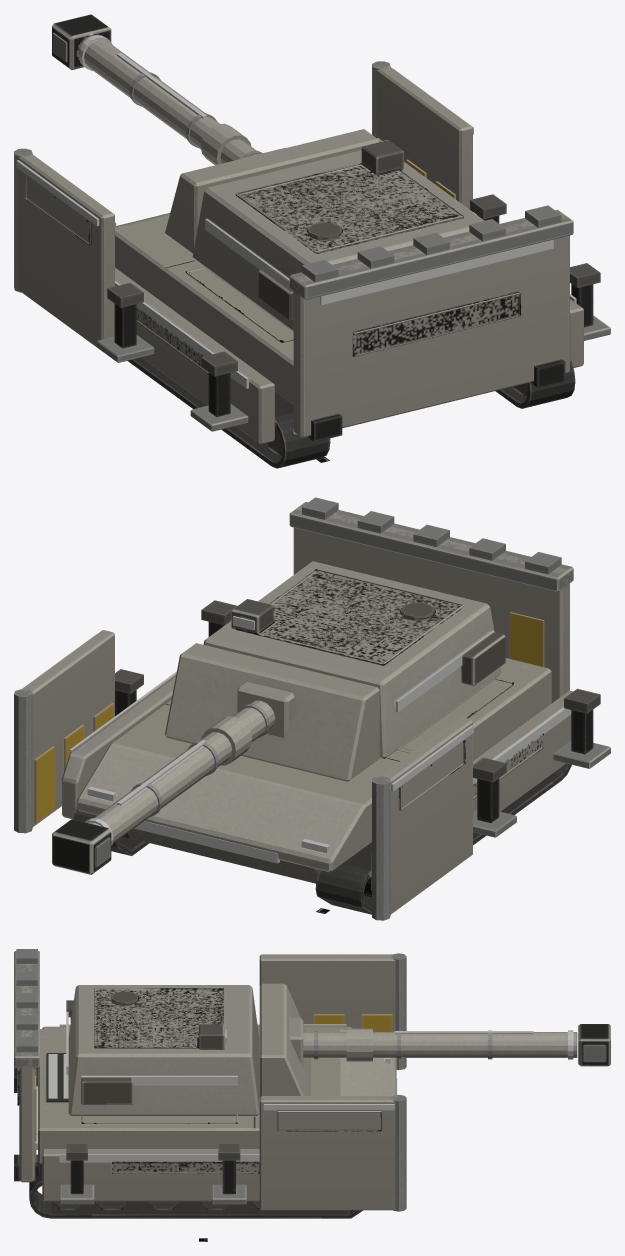
File: ord_warden.fbx
3 renders of one model, top to bottom at view 1: azimuth 30°, elevation 25°; view 2: azimuth 150°, elevation 25°; view 3: azimuth 270°, elevation 25°, orthographic. The views are drawn at different scales.
Visible parts, largest first — view 1: spades_bar, turret_bar, base_bar, shieldL_bar, shieldR_bar, barrel_bar, jacks_bar, spades_glow_running_bar, base_glow_running_bar, turret_glow_running_bar, barrel_glow_weapon_bar, shieldL_glow_running_bar; view 2: turret_bar, base_bar, spades_bar, shieldL_bar, shieldR_bar, barrel_bar, jacks_bar, base_glow_running_bar, turret_glow_running_bar, shieldL_glow_running_bar, barrel_glow_weapon_bar; view 3: turret_bar, base_bar, shieldR_bar, shieldL_bar, barrel_bar, spades_bar, jacks_bar, base_glow_running_bar, turret_glow_running_bar, shieldR_glow_running_bar, barrel_glow_weapon_bar.
Boxes of the visible parts, x1,y1,x2,y2 form: spades_bar: (289,205,573,441); turret_bar: (165,129,484,330); base_bar: (115,213,583,468); shieldL_bar: (14,148,114,347); shieldR_bar: (372,61,472,211); barrel_bar: (52,14,285,165); jacks_bar: (97,194,610,431); spades_glow_running_bar: (320,239,553,305); base_glow_running_bar: (115,281,576,388); turret_glow_running_bar: (205,218,289,280); barrel_glow_weapon_bar: (79,35,206,118); shieldL_glow_running_bar: (16,160,99,226); turret_bar: (165,561,505,781); base_bar: (62,658,572,914); spades_bar: (289,497,573,703); shieldL_bar: (372,717,472,920); shieldR_bar: (14,630,114,833); barrel_bar: (52,681,294,874); jacks_bar: (115,600,610,837); base_glow_running_bar: (69,671,571,863); turret_glow_running_bar: (233,616,494,712); shieldL_glow_running_bar: (391,725,473,791); barrel_glow_weapon_bar: (85,740,206,845); turret_bar: (68,983,310,1115); base_bar: (29,1026,396,1218); shieldR_bar: (259,1094,406,1211); shieldL_bar: (259,953,406,1069); barrel_bar: (289,1018,610,1067); spades_bar: (14,949,39,1182); jacks_bar: (59,1000,246,1204); base_glow_running_bar: (35,1024,397,1162); turret_glow_running_bar: (66,1011,237,1085); shieldR_glow_running_bar: (264,1104,394,1110); barrel_glow_weapon_bar: (394,1030,573,1059).
Bounding box in the file's own units: 860 × 615 × 1373.
Materials: 2 (2 with a texture image).
